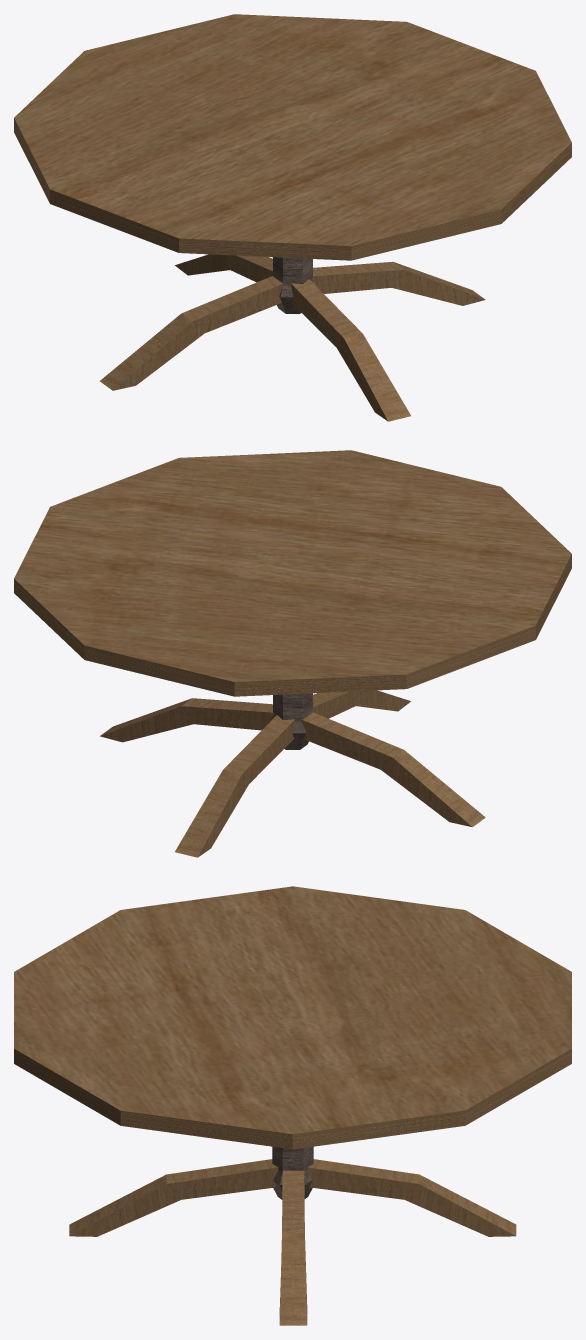
The model's file is table_round.glb.
3 views of the same model, one above another, from view 1: azimuth 30°, elevation 25°; view 2: azimuth 150°, elevation 25°; view 3: azimuth 270°, elevation 25° (orthographic). The views are drawn at different scales.
Visible parts, largest first — view 1: Mesa.007; view 2: Mesa.007; view 3: Mesa.007.
Boxes of the visible parts, x1,y1,x2,y2 form: Mesa.007: (14, 14, 571, 421); Mesa.007: (14, 450, 571, 857); Mesa.007: (14, 886, 571, 1325).
Size of the model in its own units: 4 by 1.66 by 3.8.
Materials: 2 (2 with a texture image).
